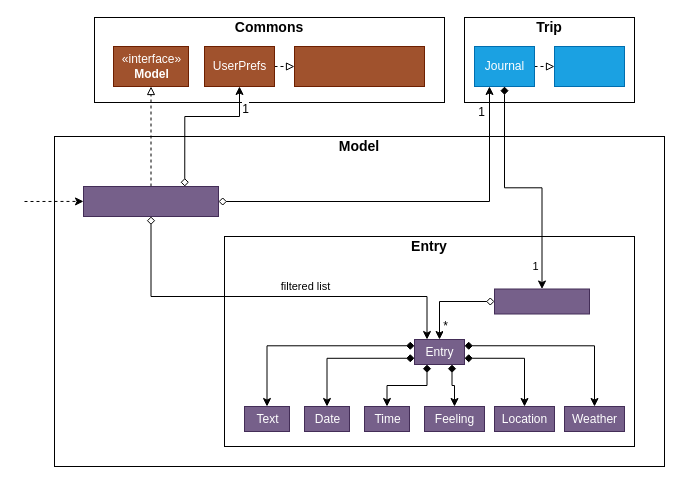
Image size: 682x484. Some labels were removed from this diagram. The box of each missing label's shape, as (x1, y1, x2, y2) in pixels:
JournalModelManager: (82, 186, 218, 216)
ReadOnlyUserPrefs: (294, 46, 424, 86)
TripFeature: (554, 46, 624, 86)
UniqueEntryList: (494, 288, 590, 314)
